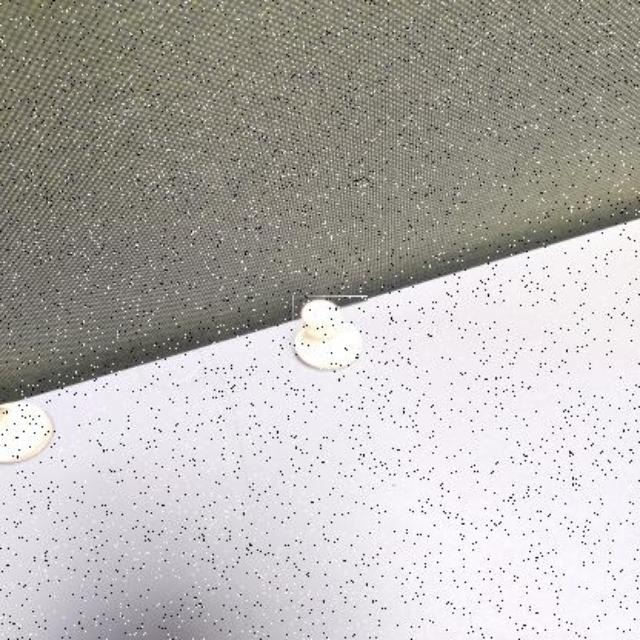white-pawn: (293, 296, 369, 374)
